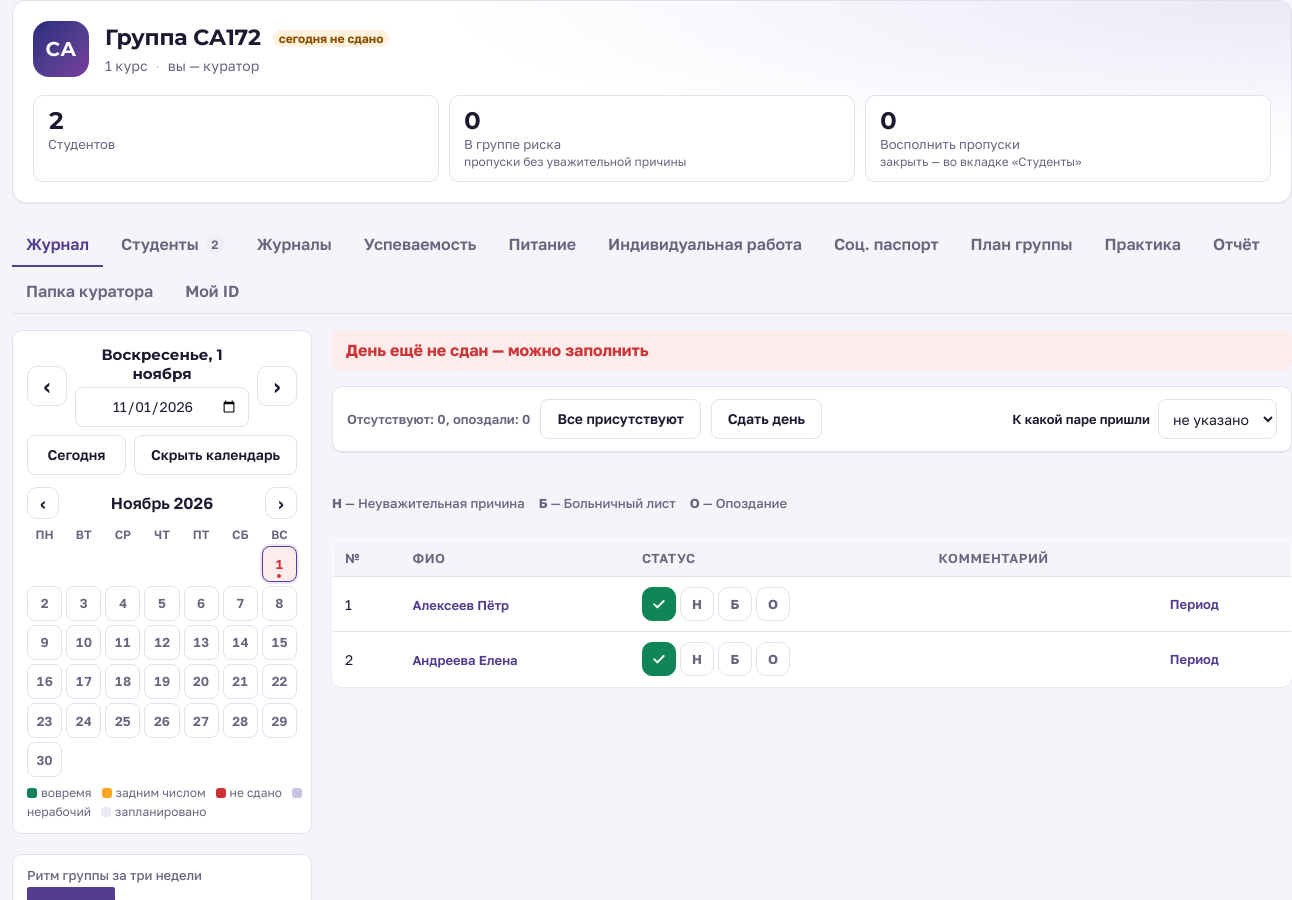
Scenario: CuratorGroupPage — журнал дня › опоздавший считается отдельно от отсутствующих
Check: the link "Алексеев Пётр" is shown, box [408,595,513,615]
Step 1. Click the button "О" in the row of "Алексеев Пётр" → {"x": 773, "y": 604}, box [756,587,790,621]
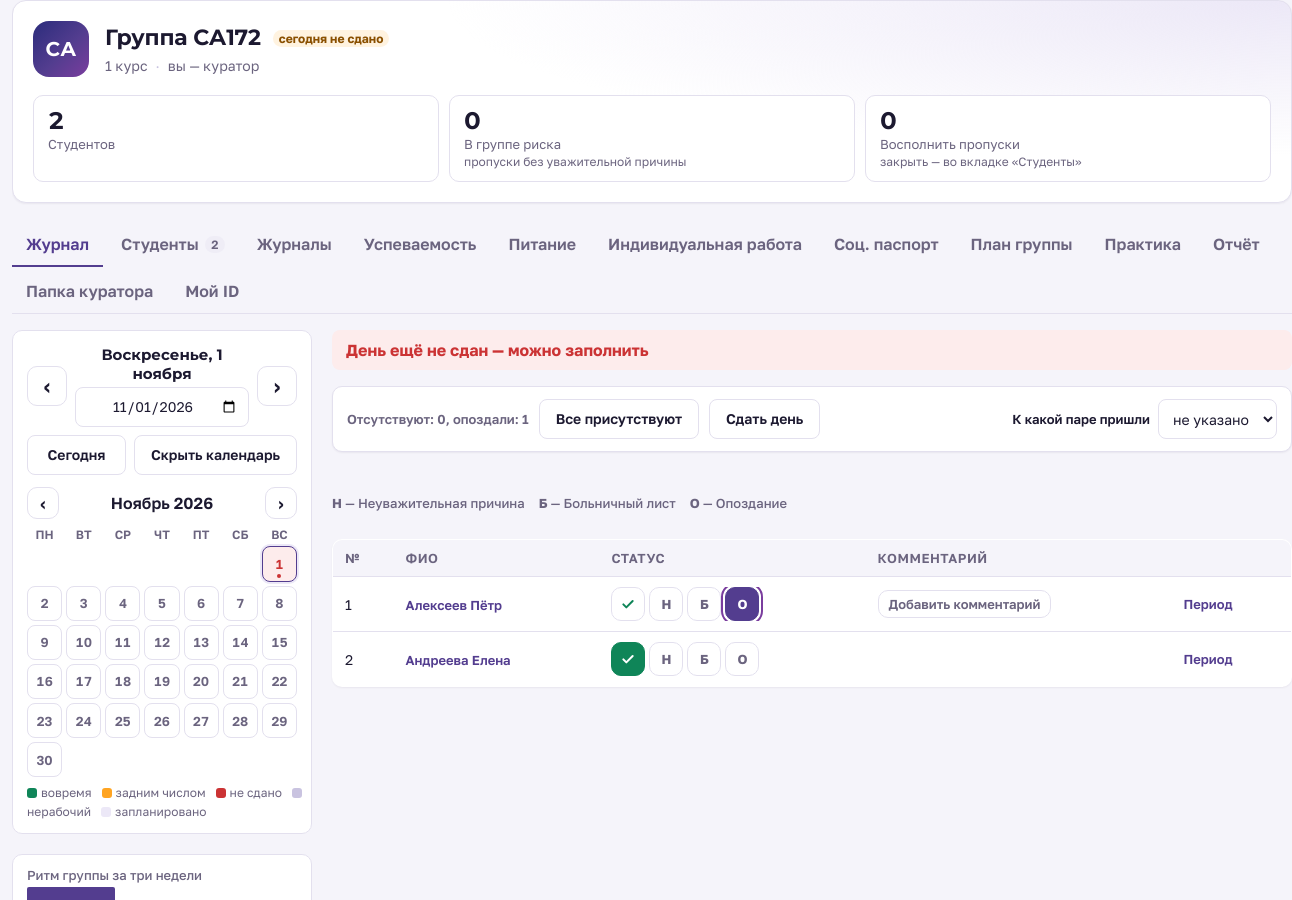
Check: the text "Отсутствуют: 0, опоздали: 1" is shown, box [347,411,529,427]
Step 2. Click the button "Н" next to "Андреева Елена" → {"x": 666, "y": 659}, box [649,642,683,676]
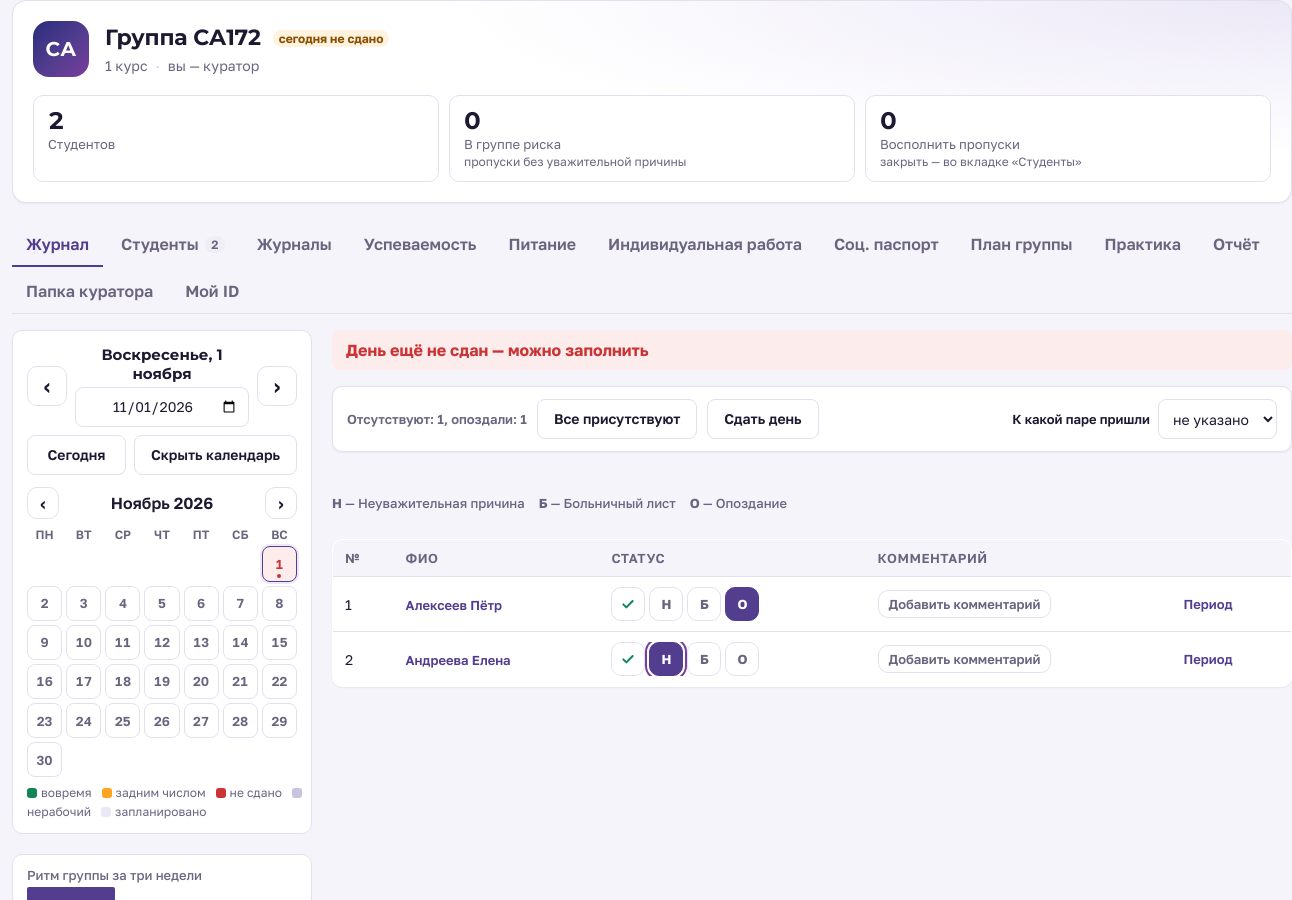
Check: the text "Отсутствуют: 1, опоздали: 1" is shown, box [347,411,527,427]
